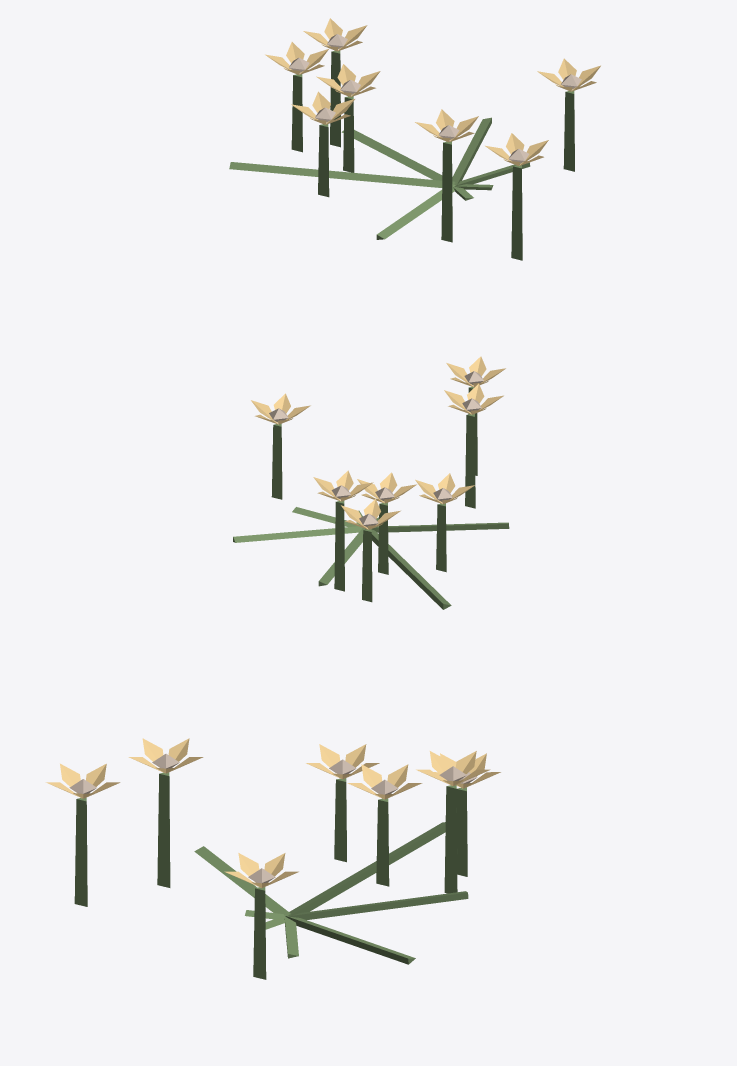
Rendered from shui.pingpeng@flowering__spring.glb.
The picture shows the model from 3 angles, top to bottom: view 1: azimuth 30°, elevation 25°; view 2: azimuth 150°, elevation 25°; view 3: azimuth 270°, elevation 25°; orthographic projection. The views are drawn at different scales.
Parts seen in each view (by area): view 1: shui.pingpeng@flowering__spring; view 2: shui.pingpeng@flowering__spring; view 3: shui.pingpeng@flowering__spring.
Boxes of the visible parts, x1,y1,x2,y2 form: shui.pingpeng@flowering__spring: (229, 18, 600, 260); shui.pingpeng@flowering__spring: (233, 356, 509, 609); shui.pingpeng@flowering__spring: (46, 738, 500, 979).
Size of the model in its own units: 1.28 by 0.2458 by 1.15.
